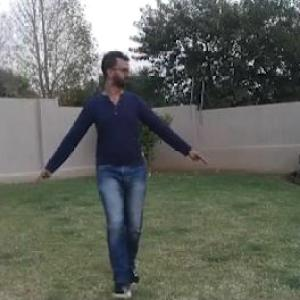land: (27, 49, 208, 286)
